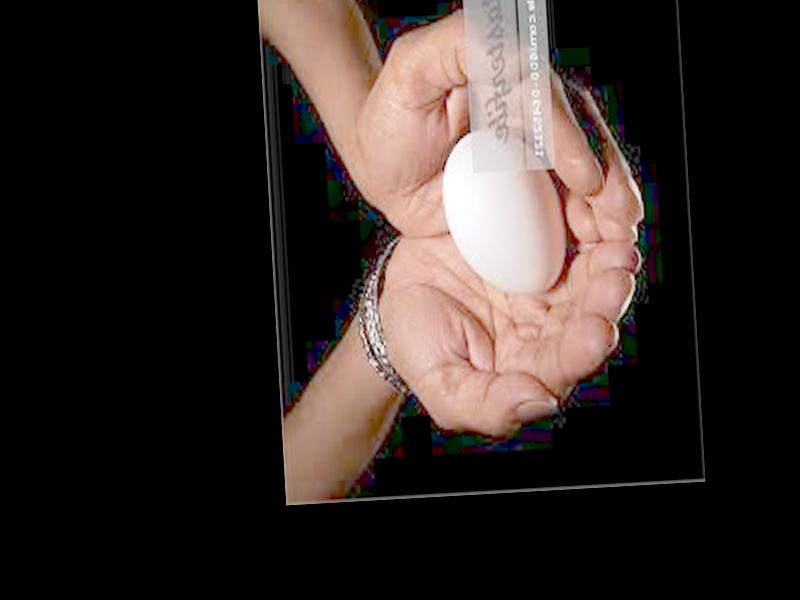Eggs: (441, 131, 569, 299)
